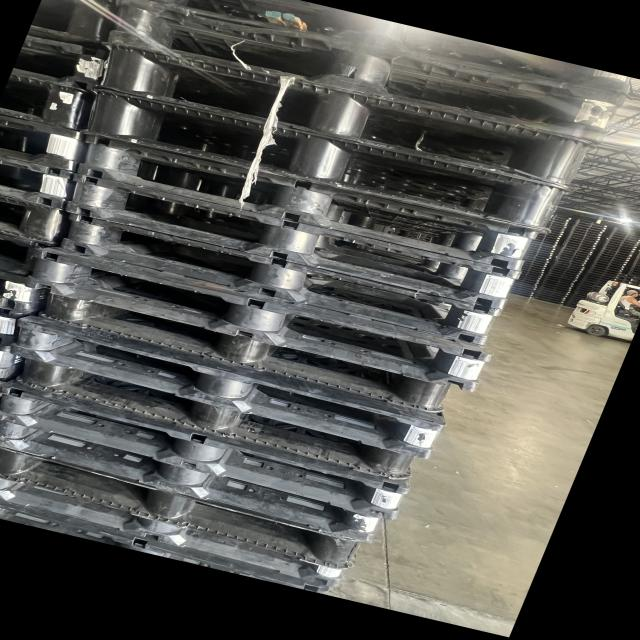igps: (88, 36, 599, 192), (98, 0, 631, 148), (77, 86, 576, 237), (22, 246, 496, 394), (74, 133, 551, 274), (7, 311, 448, 462), (62, 170, 526, 313), (58, 208, 505, 348), (0, 376, 414, 522), (146, 0, 640, 110), (37, 288, 453, 416), (14, 353, 414, 483), (0, 412, 385, 546), (0, 445, 365, 573), (0, 474, 345, 590), (0, 496, 332, 597), (587, 268, 621, 280), (585, 270, 619, 282), (592, 260, 625, 272), (591, 262, 624, 274), (588, 266, 621, 278), (606, 236, 640, 247), (594, 256, 628, 267), (574, 220, 608, 231), (553, 257, 587, 268), (549, 265, 583, 276), (547, 267, 581, 278), (607, 233, 640, 244), (604, 241, 637, 252), (596, 254, 629, 265), (547, 269, 580, 280), (594, 258, 626, 269), (576, 218, 608, 229), (562, 244, 594, 255), (605, 239, 639, 249), (600, 248, 634, 258), (554, 255, 588, 265), (550, 264, 584, 274), (599, 250, 632, 260), (598, 252, 631, 262), (590, 265, 623, 275), (584, 272, 617, 282), (571, 224, 604, 234), (570, 227, 603, 237), (569, 230, 602, 240), (556, 253, 589, 263), (552, 262, 585, 272), (602, 246, 634, 256), (574, 223, 606, 233), (568, 234, 600, 244), (566, 236, 598, 246), (565, 238, 597, 248), (560, 246, 592, 256), (559, 249, 591, 259), (558, 251, 590, 261), (544, 274, 576, 284), (544, 276, 576, 286), (538, 286, 570, 296), (536, 288, 568, 298), (534, 292, 566, 302), (532, 296, 564, 306), (576, 282, 602, 294), (563, 242, 594, 252), (543, 278, 574, 288), (542, 280, 573, 290), (541, 282, 572, 292), (540, 284, 571, 294), (536, 290, 567, 300), (534, 294, 565, 304), (568, 232, 602, 241), (603, 244, 636, 253), (564, 241, 597, 250), (553, 260, 586, 269), (608, 232, 640, 241), (529, 240, 557, 250), (528, 242, 556, 252), (528, 244, 555, 254), (527, 246, 554, 256), (524, 252, 550, 262), (508, 288, 534, 298), (530, 238, 558, 247), (526, 249, 554, 258), (524, 251, 552, 260), (522, 255, 550, 264), (578, 281, 603, 291), (582, 275, 609, 284), (610, 231, 640, 239), (581, 277, 607, 286), (522, 257, 548, 266), (512, 280, 538, 289), (510, 284, 536, 293), (508, 290, 534, 299), (611, 228, 640, 236), (534, 237, 559, 246), (521, 264, 546, 273), (512, 282, 537, 291), (510, 286, 535, 295), (613, 226, 640, 234), (537, 232, 561, 241), (521, 260, 548, 268), (520, 262, 547, 270), (514, 278, 538, 287), (579, 280, 605, 288), (520, 266, 546, 274), (518, 269, 544, 277), (535, 235, 560, 243), (550, 212, 573, 220), (519, 273, 542, 281), (518, 274, 541, 282), (614, 277, 634, 286), (546, 220, 568, 228), (546, 222, 568, 230), (543, 226, 565, 234), (521, 271, 543, 279), (518, 277, 540, 285), (548, 217, 569, 225), (549, 216, 571, 223), (545, 225, 566, 232), (617, 273, 636, 280), (574, 287, 592, 294), (570, 293, 588, 300), (616, 276, 636, 282), (573, 289, 589, 296), (572, 291, 588, 298), (546, 232, 564, 238), (569, 296, 586, 302), (626, 270, 640, 277), (564, 303, 578, 309), (550, 230, 564, 236), (565, 301, 578, 307), (568, 297, 580, 303), (629, 266, 640, 272), (631, 280, 640, 287), (628, 268, 640, 273), (631, 263, 640, 269), (567, 300, 579, 304), (632, 276, 640, 282), (633, 259, 640, 264), (634, 257, 640, 262)
